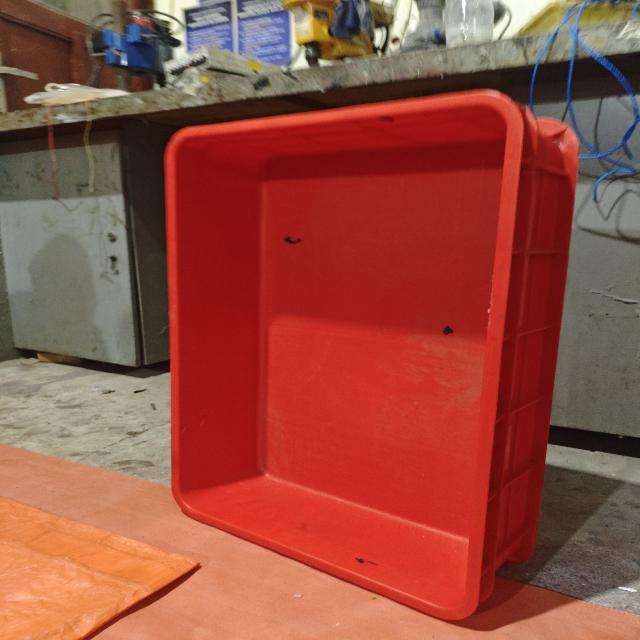red plastic box: (163, 88, 580, 620)
